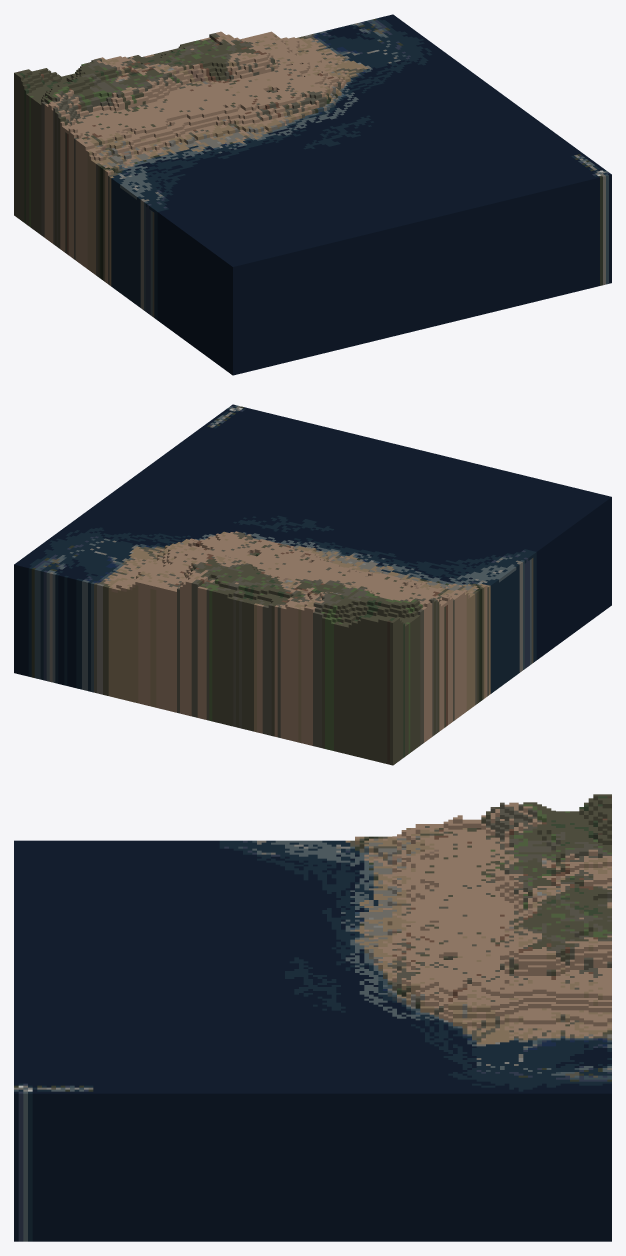
The model's file is MapⅤ3-1.obj.
3 views of the same model, one above another, from view 1: azimuth 30°, elevation 25°; view 2: azimuth 150°, elevation 25°; view 3: azimuth 270°, elevation 25° (orthographic). The views are drawn at different scales.
Size of the model in its own units: 12.8 by 4.6 by 12.8.
1 material, 1 textured.
